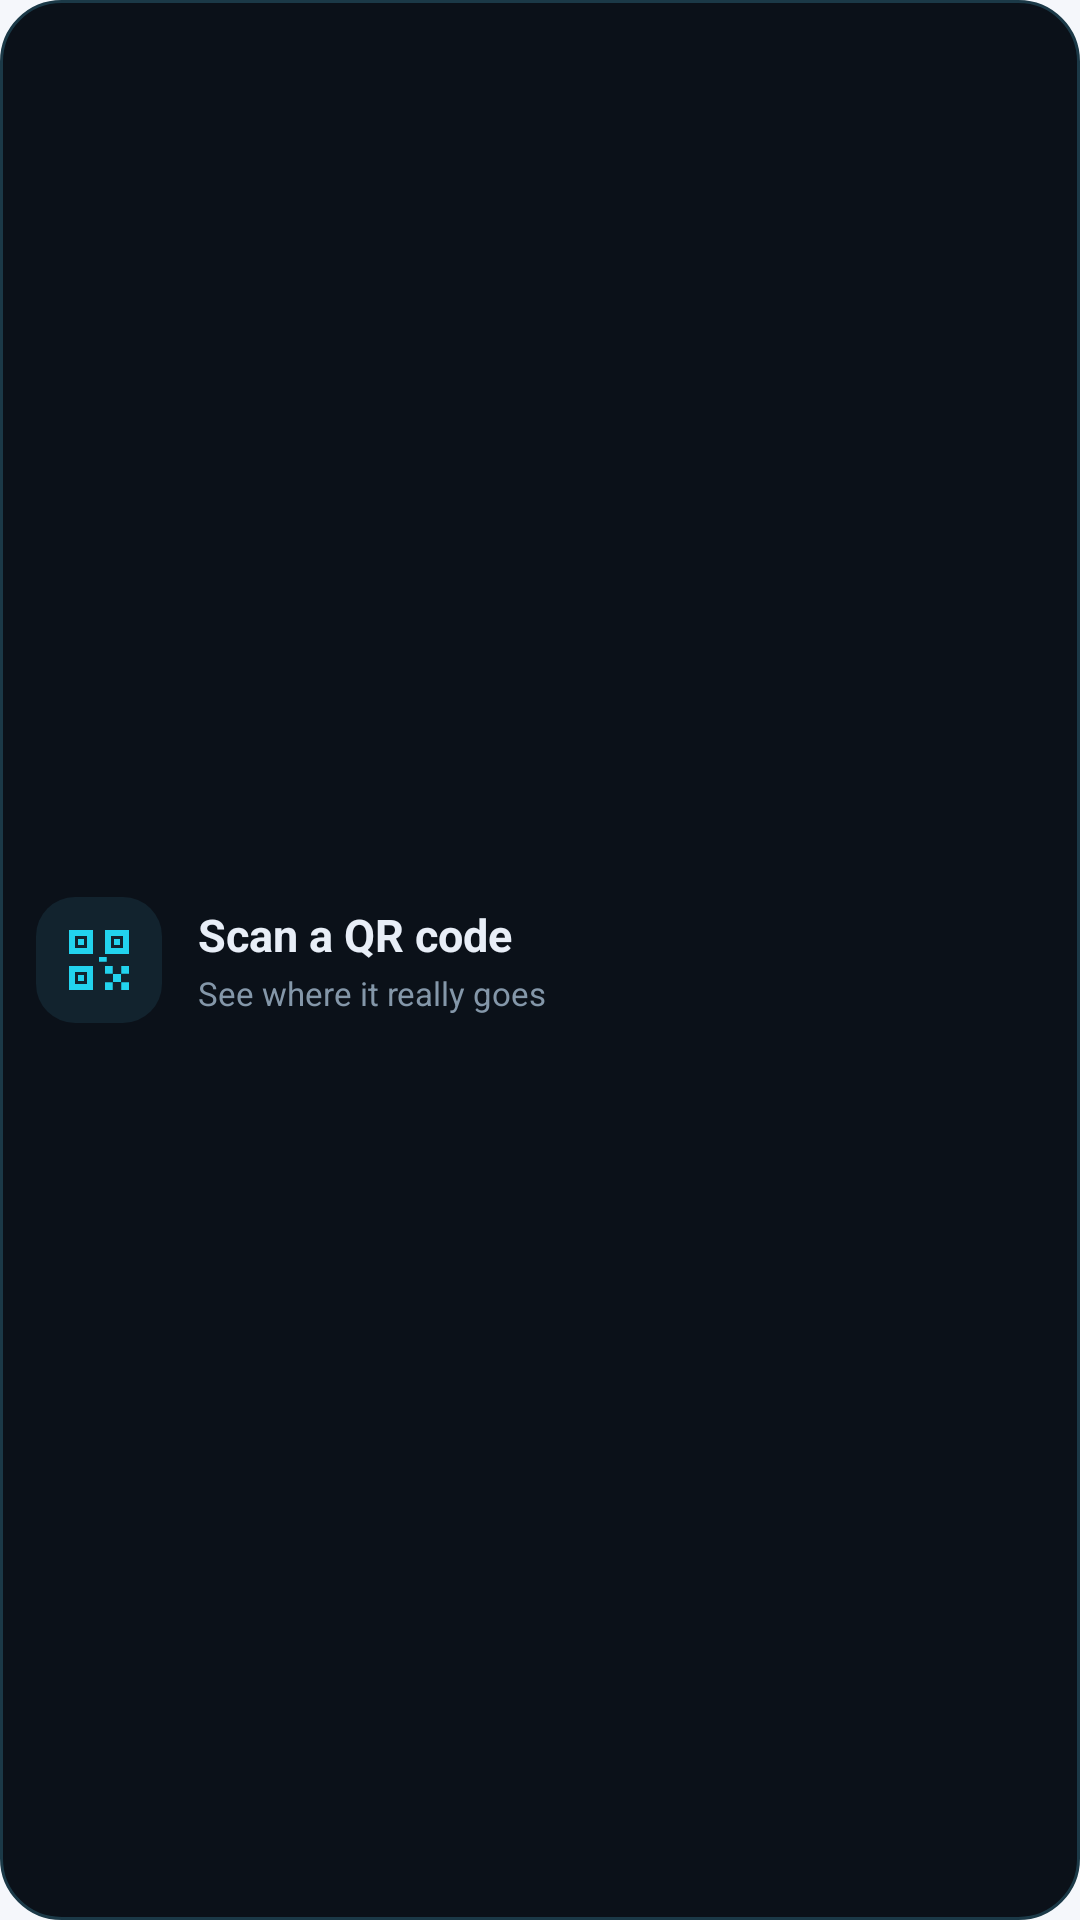

Icon click points for this 1080 × 1920 phone screenshot, format point (x, y):
qr widget: point (99, 960)
